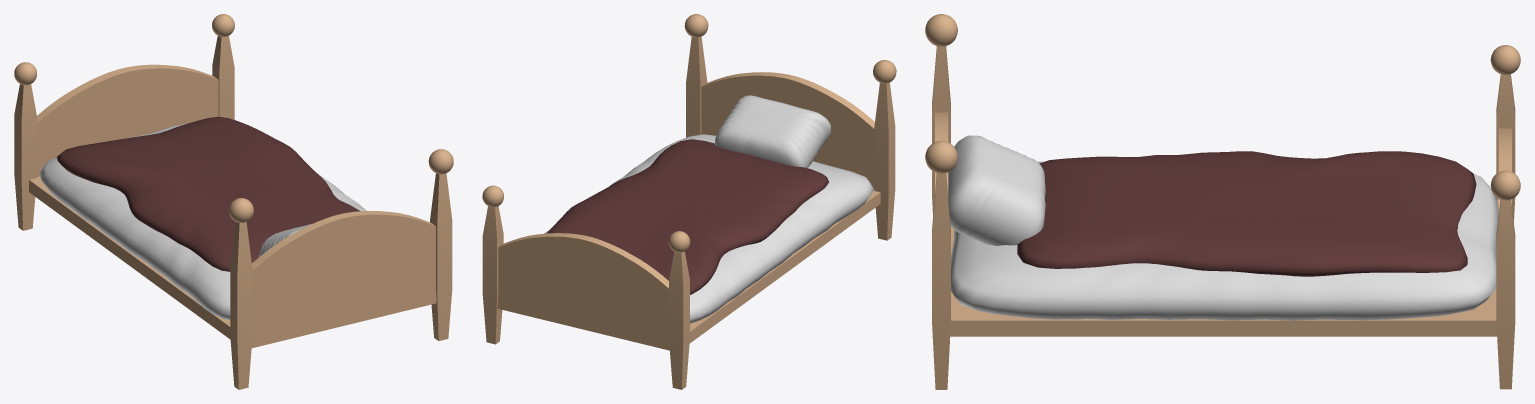
Rendered from Lit3_7.fbx.
The picture shows the model from 3 angles, left to right: view 1: azimuth 30°, elevation 25°; view 2: azimuth 150°, elevation 25°; view 3: azimuth 270°, elevation 25°; orthographic projection. The views are drawn at different scales.
Visible parts, largest first — view 1: pCylinder245, pCube954, pCube959, pCylinder247, pCube955, pCube956, pCube957, pCube960, pCube958, pCylinder246; view 2: pCylinder245, pCube959, pCylinder247, pCube954, pCylinder246, pCube955, pCube957, pCube960, pCube958, pCube956; view 3: pCylinder245, pCylinder247, pCube960, pCylinder246, pCube956, pCube958, pCube955, pCube957, pCube959.
Boxes of the visible parts, x1=… form: pCylinder245: x1=56, y1=116, x2=360, y2=271; pCube954: x1=251, y1=211, x2=436, y2=348; pCube959: x1=37, y1=64, x2=218, y2=176; pCylinder247: x1=39, y1=123, x2=366, y2=319; pCube955: x1=229, y1=198, x2=253, y2=389; pCube956: x1=428, y1=149, x2=453, y2=340; pCube957: x1=14, y1=62, x2=37, y2=230; pCube960: x1=28, y1=176, x2=230, y2=339; pCube958: x1=212, y1=14, x2=234, y2=119; pCylinder246: x1=259, y1=223, x2=312, y2=256; pCylinder245: x1=547, y1=139, x2=828, y2=294; pCube959: x1=497, y1=233, x2=669, y2=350; pCylinder247: x1=544, y1=134, x2=873, y2=323; pCube954: x1=701, y1=72, x2=874, y2=189; pCylinder246: x1=715, y1=95, x2=830, y2=167; pCube955: x1=873, y1=60, x2=896, y2=240; pCube957: x1=668, y1=231, x2=690, y2=389; pCube960: x1=689, y1=190, x2=880, y2=343; pCube958: x1=482, y1=185, x2=503, y2=344; pCube956: x1=684, y1=14, x2=708, y2=137; pCylinder245: x1=1017, y1=151, x2=1476, y2=276; pCylinder247: x1=951, y1=161, x2=1498, y2=320; pCube960: x1=950, y1=199, x2=1498, y2=336; pCylinder246: x1=948, y1=135, x2=1045, y2=245; pCube956: x1=925, y1=141, x2=957, y2=389; pCube958: x1=1490, y1=170, x2=1520, y2=389; pCube955: x1=925, y1=14, x2=957, y2=215; pCube957: x1=1490, y1=45, x2=1520, y2=222; pCube959: x1=1498, y1=128, x2=1511, y2=214.
Bounding box in the file's own units: 82.19 × 66.59 × 147.
